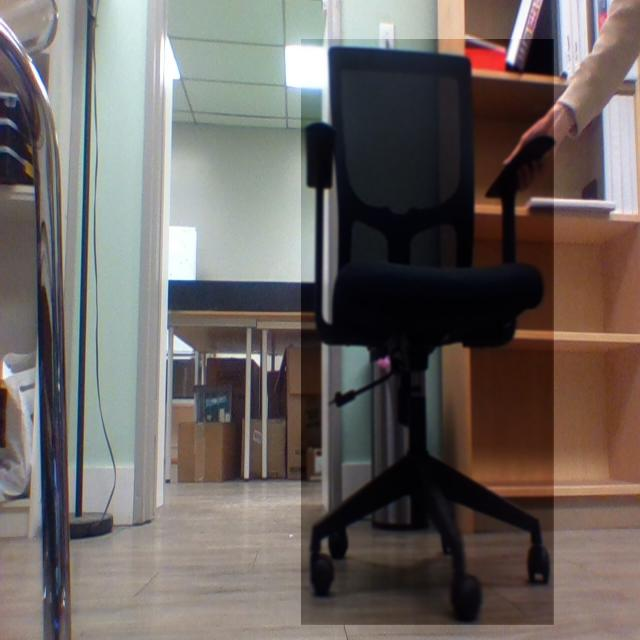black-chair: (301, 39, 555, 626)
